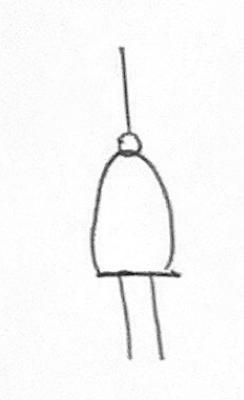NAND: (69, 126, 207, 306)
